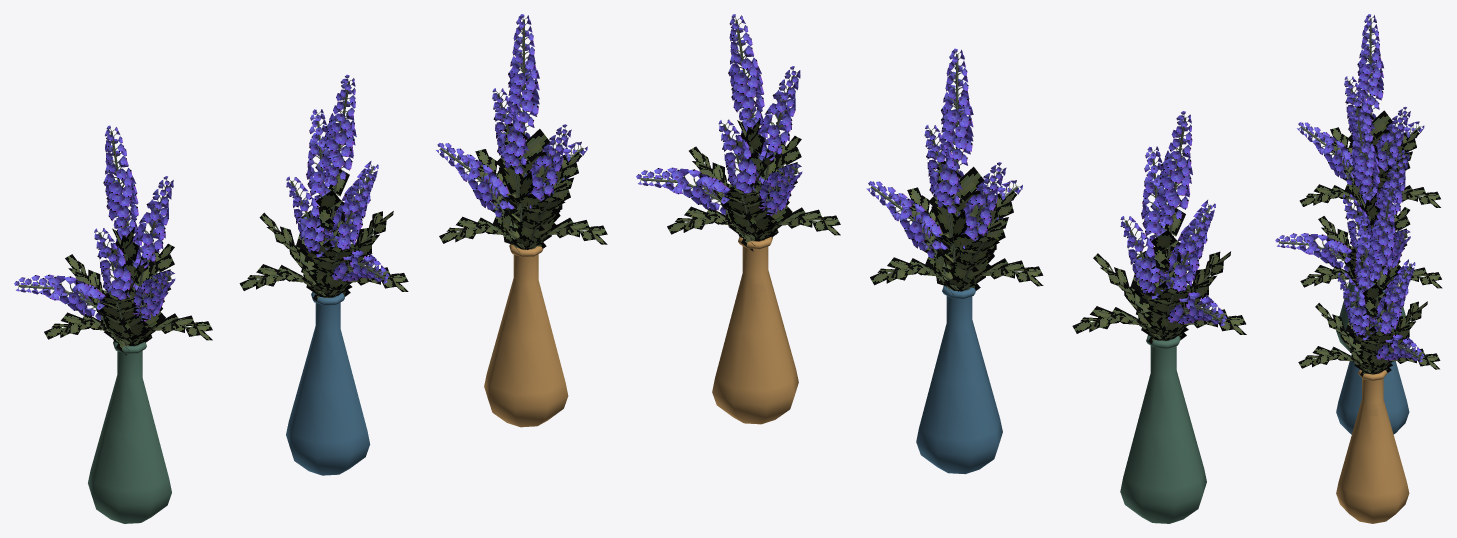
The model's file is a_com_house_a01_plant01.gltf.
3 views of the same model, side by side, from view 1: azimuth 30°, elevation 25°; view 2: azimuth 150°, elevation 25°; view 3: azimuth 270°, elevation 25° (orthographic). The views are drawn at different scales.
Parts seen in each view (by area): view 1: um_a_com_house_a01_plant01_model_a_com_house_a01_plant01_mod (×4); view 2: um_a_com_house_a01_plant01_model_a_com_house_a01_plant01_mod (×4); view 3: um_a_com_house_a01_plant01_model_a_com_house_a01_plant01_mod (×4).
Boxes of the visible parts, x1,y1,x2,y2 form: um_a_com_house_a01_plant01_model_a_com_house_a01_plant01_mod (×4): (14, 14, 607, 523); um_a_com_house_a01_plant01_model_a_com_house_a01_plant01_mod (×4): (636, 14, 1246, 523); um_a_com_house_a01_plant01_model_a_com_house_a01_plant01_mod (×4): (1275, 14, 1442, 523).
Bounding box in the file's own units: 1.45 × 0.9504 × 0.4352.
4 materials, 4 textured.
